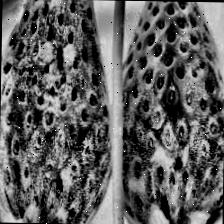Powdery Mildew Fruit: (0, 0, 116, 224), (118, 0, 224, 224)
